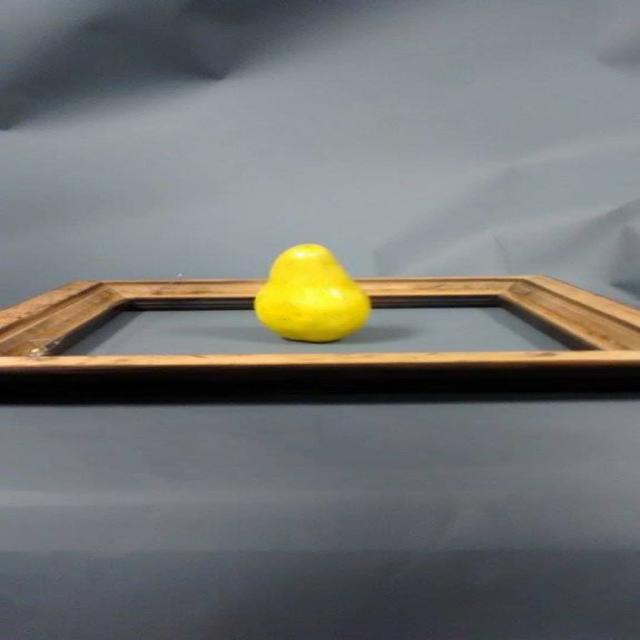pear: (251, 238, 363, 342)
